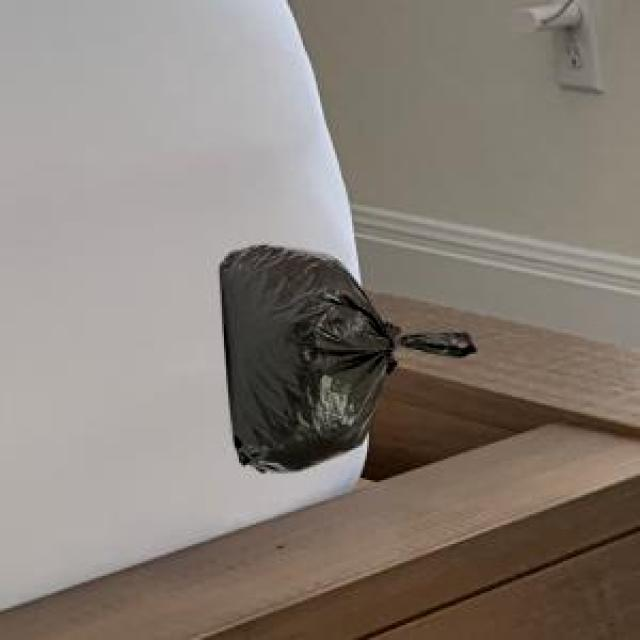Trashbag: (210, 231, 480, 481)
